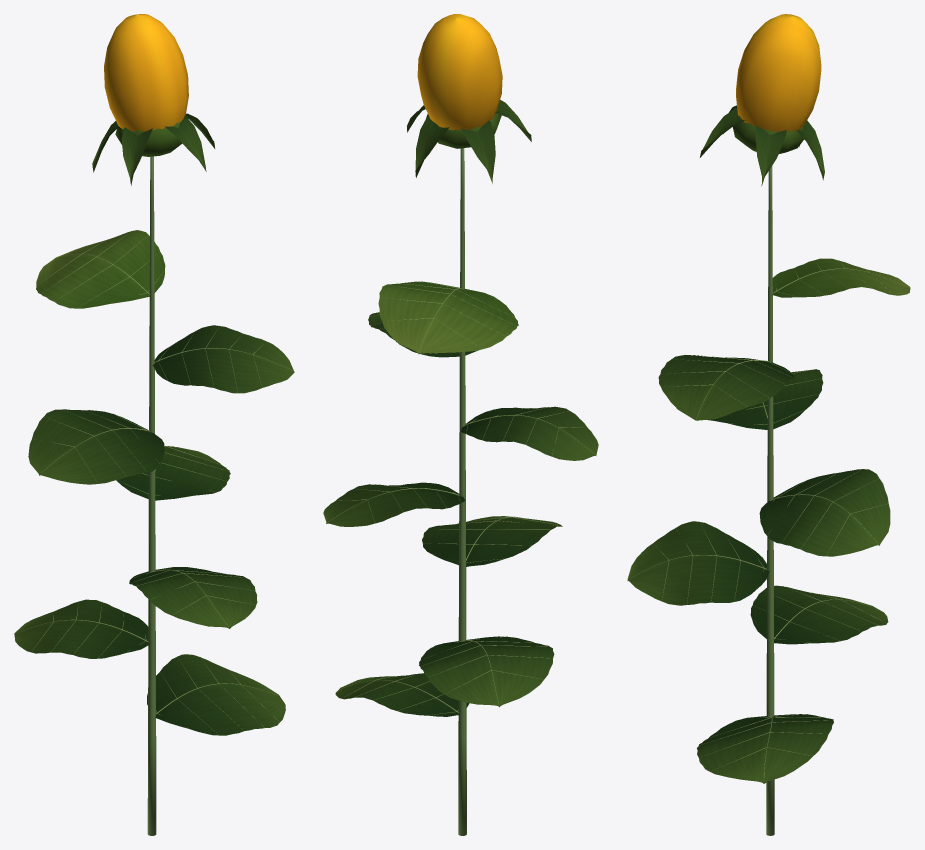
File: sunflower-08.glb
3 views of the same model, side by side, from view 1: azimuth 30°, elevation 25°; view 2: azimuth 150°, elevation 25°; view 3: azimuth 270°, elevation 25° (orthographic).
Visible parts, largest first — view 1: sunflower_stage_08_leaf_veins.014, sunflower_stage_08_sunflower_petal.014, sunflower_stage_08_young_leaf.014, sunflower_stage_08_stem_fibres.014, sunflower_stage_08_raised_midveins.014; view 2: sunflower_stage_08_leaf_veins.014, sunflower_stage_08_young_leaf.014, sunflower_stage_08_sunflower_petal.014, sunflower_stage_08_stem_fibres.014, sunflower_stage_08_raised_midveins.014; view 3: sunflower_stage_08_leaf_veins.014, sunflower_stage_08_sunflower_petal.014, sunflower_stage_08_young_leaf.014, sunflower_stage_08_stem_fibres.014, sunflower_stage_08_raised_midveins.014.
Boxes of the visible parts, x1,y1,x2,y2 form: sunflower_stage_08_leaf_veins.014: (14, 113, 294, 735); sunflower_stage_08_sunflower_petal.014: (104, 14, 188, 131); sunflower_stage_08_young_leaf.014: (36, 122, 181, 308); sunflower_stage_08_stem_fibres.014: (147, 156, 156, 835); sunflower_stage_08_raised_midveins.014: (15, 236, 294, 734); sunflower_stage_08_leaf_veins.014: (323, 99, 598, 716); sunflower_stage_08_young_leaf.014: (378, 108, 518, 354); sunflower_stage_08_sunflower_petal.014: (417, 14, 502, 130); sunflower_stage_08_stem_fibres.014: (458, 148, 466, 835); sunflower_stage_08_raised_midveins.014: (328, 281, 595, 715); sunflower_stage_08_leaf_veins.014: (627, 105, 890, 783); sunflower_stage_08_sunflower_petal.014: (736, 14, 821, 131); sunflower_stage_08_young_leaf.014: (733, 115, 910, 297); sunflower_stage_08_stem_fibres.014: (766, 166, 774, 835); sunflower_stage_08_raised_midveins.014: (629, 260, 908, 781).
Size of the model in its own units: 0.2591 by 0.8177 by 0.2571.
5 materials, 3 textured.
